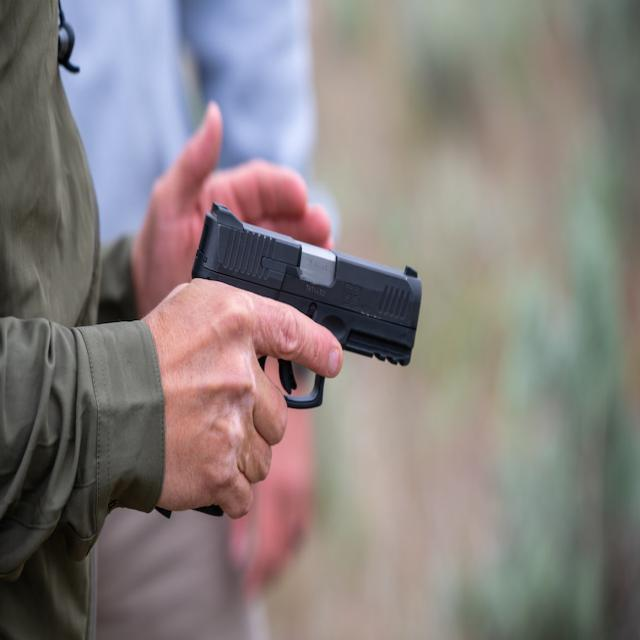Weapon: (192, 204, 421, 364)
